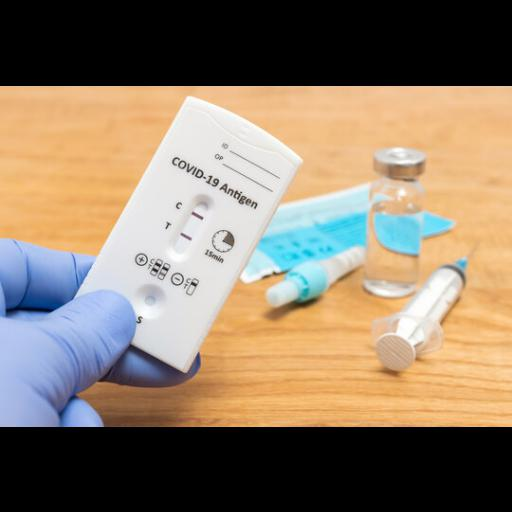Pos: (67, 93, 305, 373)
